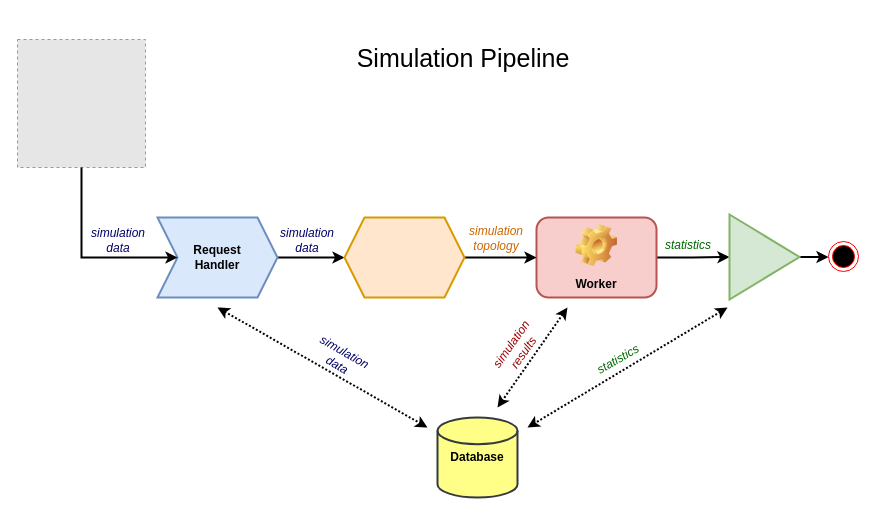
This 876x515 diagram has some shape labels left out. Grey dashed boxes stand in for pictures. Here are the shapes that lost their labels. From the top down, the centre of each, then its label:
point (404, 257): Constructor
point (764, 256): Printer
